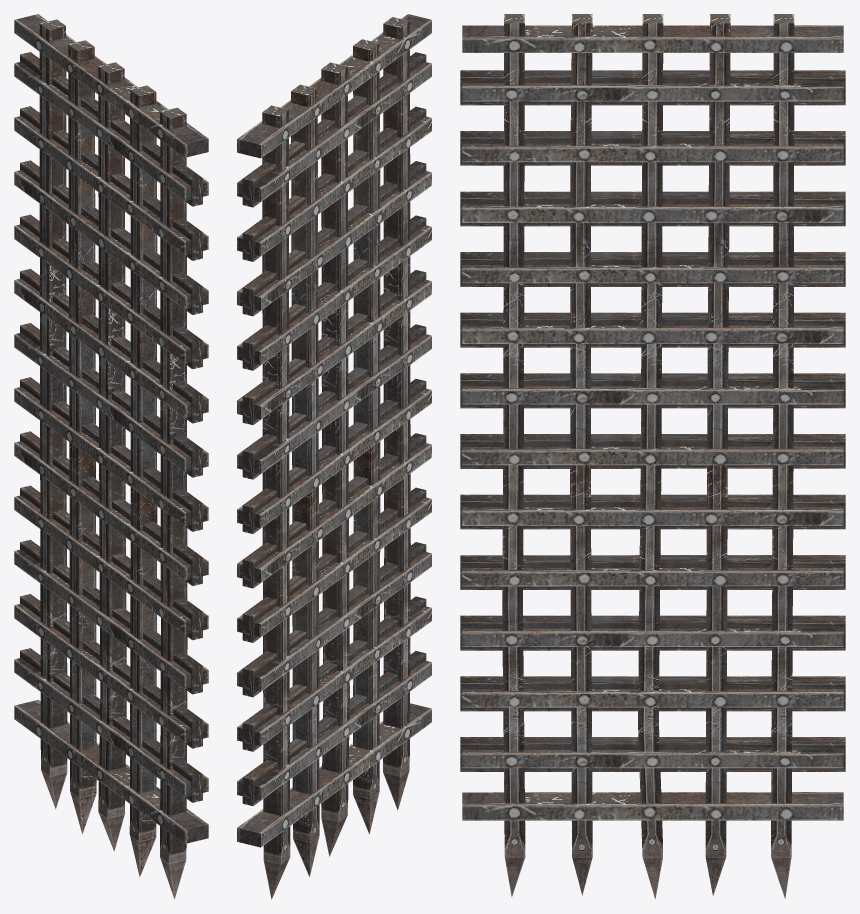
Rendered from bg_lut_lucastle_arenadoor01_sm_bjh.FBX.
3 renders of one model, left to right at view 1: azimuth 30°, elevation 25°; view 2: azimuth 150°, elevation 25°; view 3: azimuth 270°, elevation 25°, orthographic. The views are drawn at different scales.
Visible parts, largest first — view 1: bg_lut_lucastle_arenadoor01_sm_bjh; view 2: bg_lut_lucastle_arenadoor01_sm_bjh; view 3: bg_lut_lucastle_arenadoor01_sm_bjh.
Boxes of the visible parts, <box> form: bg_lut_lucastle_arenadoor01_sm_bjh: <box>14,14,208,899</box>; bg_lut_lucastle_arenadoor01_sm_bjh: <box>237,14,431,899</box>; bg_lut_lucastle_arenadoor01_sm_bjh: <box>460,14,845,899</box>.
Bounding box in the file's own units: 16.37 × 517 × 205.
